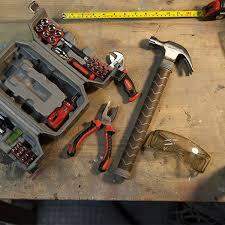hammer: (112, 34, 194, 180)
